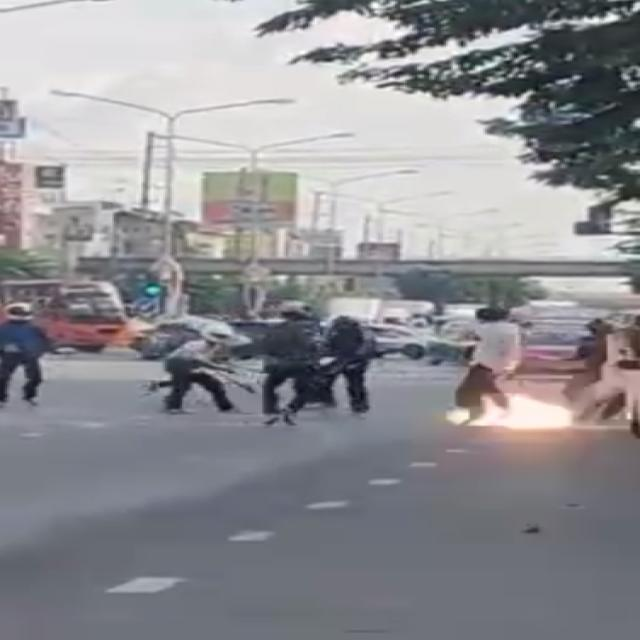helmet: (274, 292, 316, 328), (202, 319, 246, 350), (0, 295, 44, 322)
